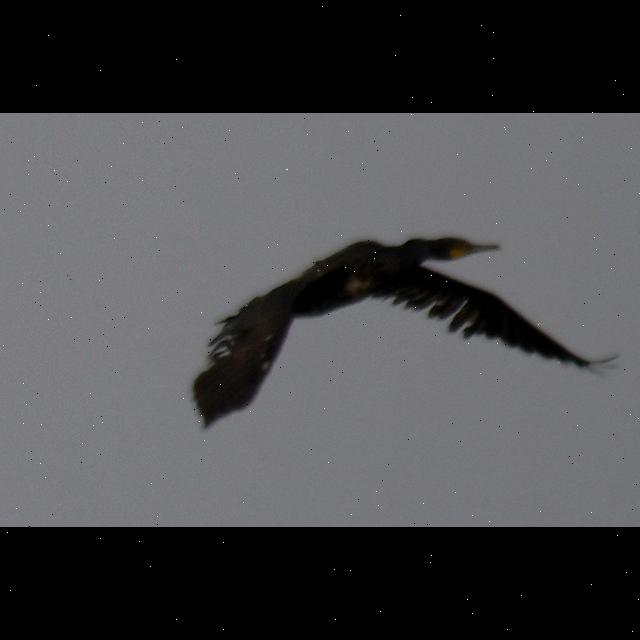cormorant: (188, 228, 610, 440)
